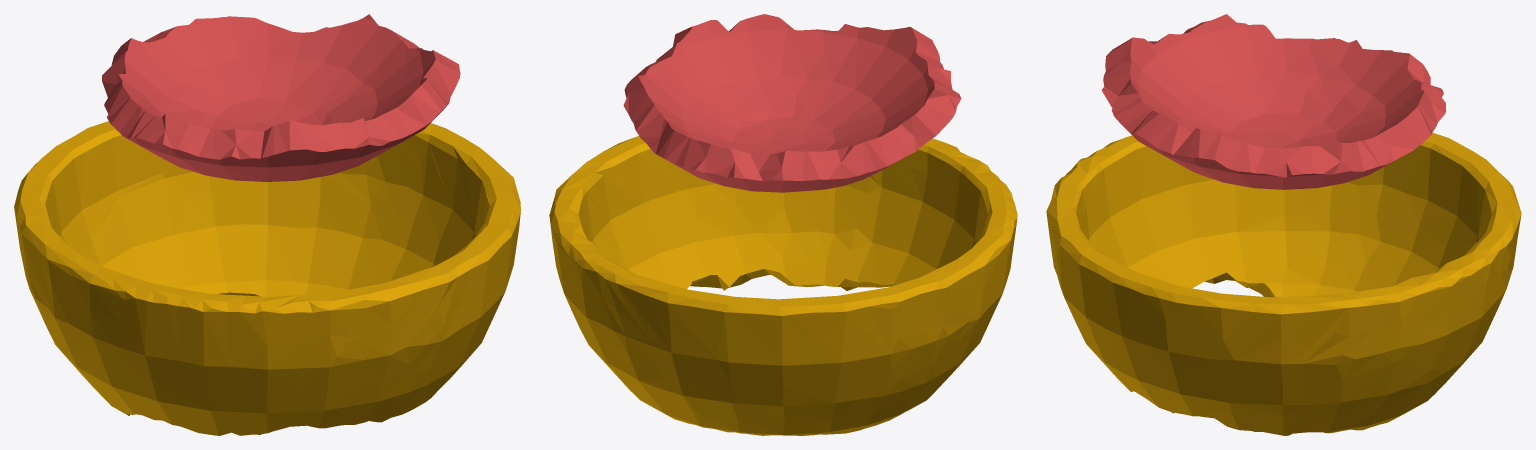
File: fractured_23_2pcs_transformed.glb
3 views of the same model, side by side, from view 1: azimuth 30°, elevation 25°; view 2: azimuth 150°, elevation 25°; view 3: azimuth 270°, elevation 25° (orthographic). The views are drawn at different scales.
Parts seen in each view (by area): view 1: piece_0.obj, piece_1.obj; view 2: piece_0.obj, piece_1.obj; view 3: piece_0.obj, piece_1.obj.
Boxes of the visible parts, bbox=[...] form: piece_0.obj: bbox=[14, 121, 520, 435]; piece_1.obj: bbox=[102, 14, 460, 181]; piece_0.obj: bbox=[549, 136, 1017, 435]; piece_1.obj: bbox=[623, 14, 961, 192]; piece_0.obj: bbox=[1046, 132, 1521, 435]; piece_1.obj: bbox=[1102, 14, 1445, 189].
Size of the model in its own units: 0.9989 by 0.7308 by 1.
